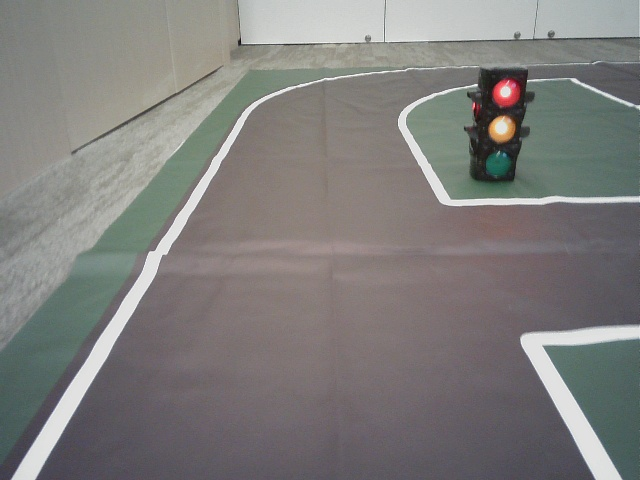red: (483, 69, 520, 177)
